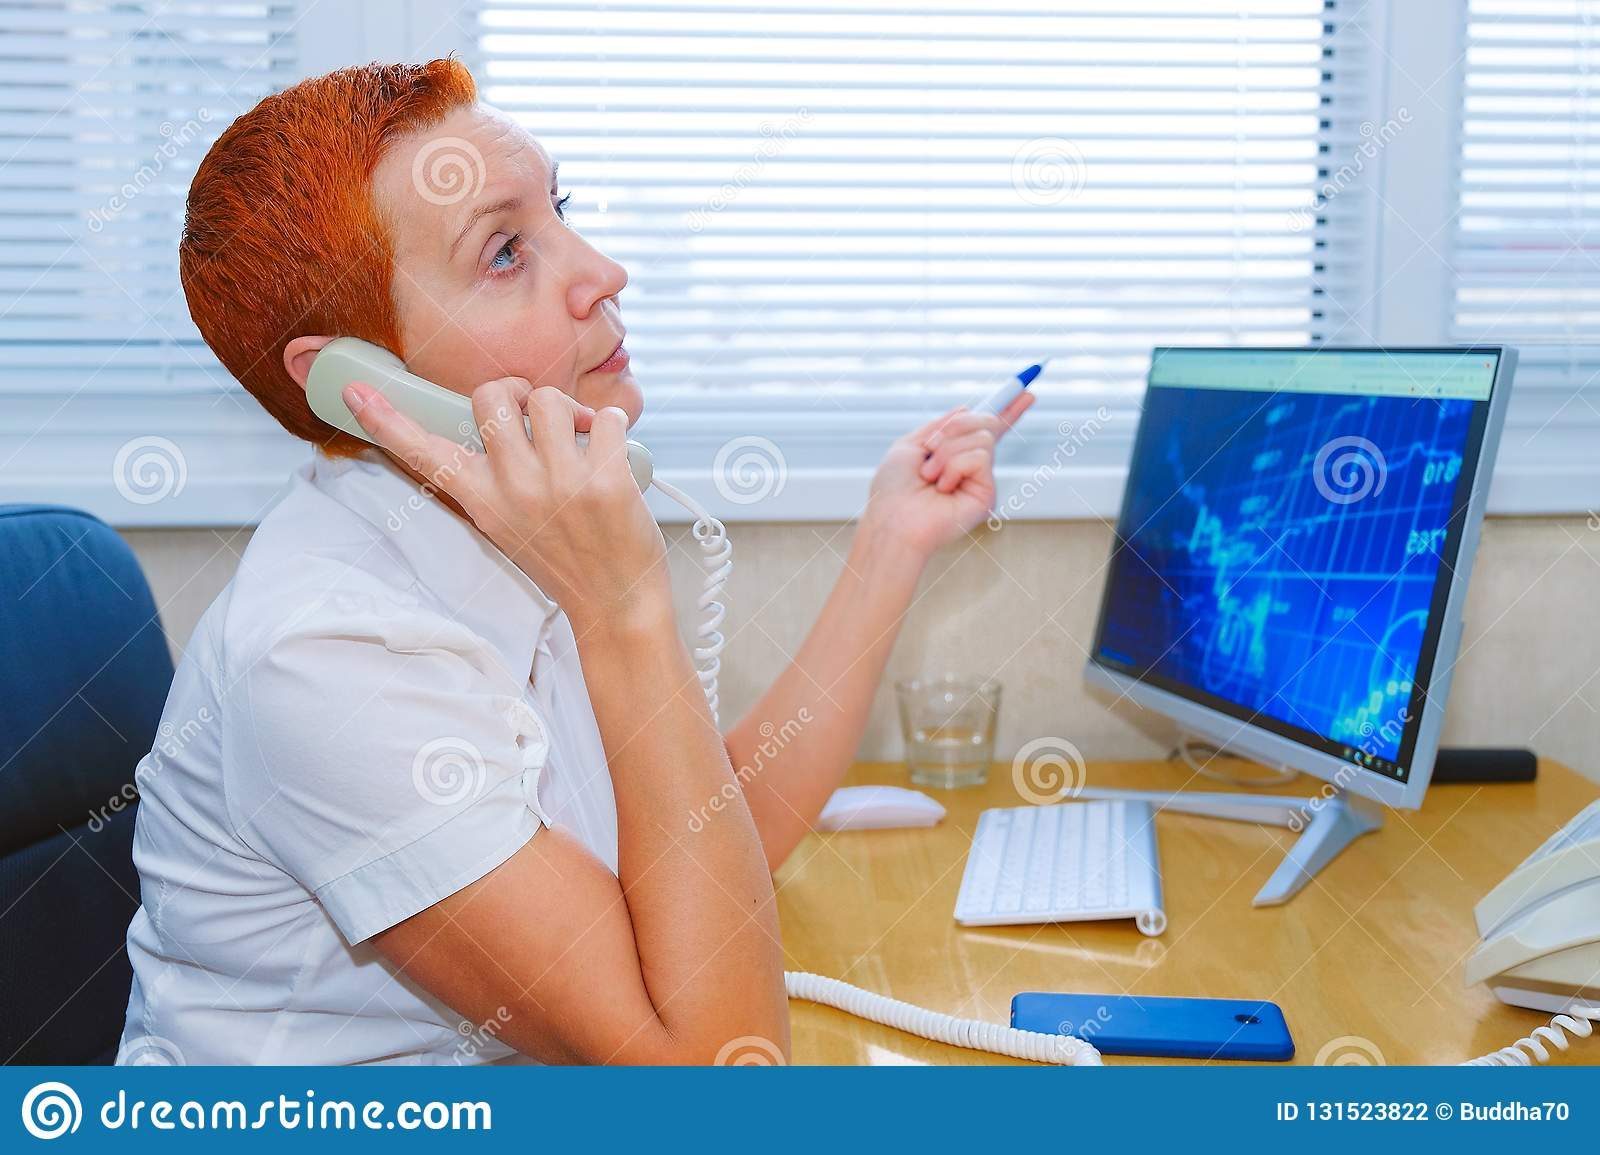phone: (308, 342, 657, 509)
talk: (298, 160, 673, 632)
